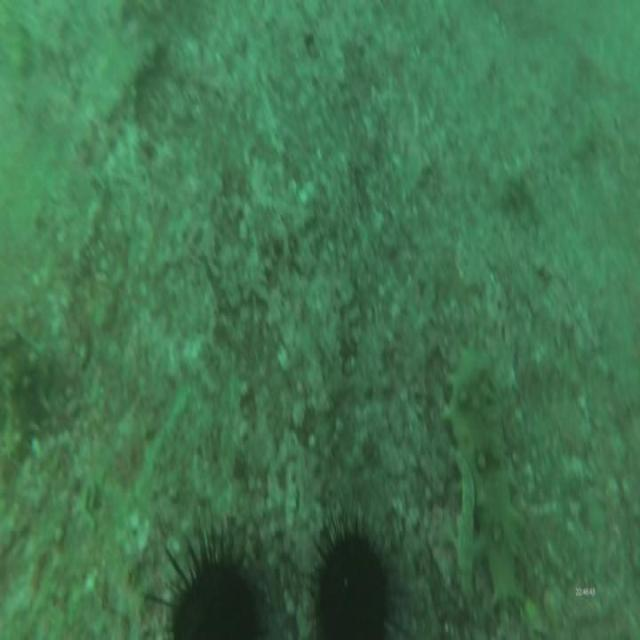echinus: (145, 510, 268, 640), (305, 504, 401, 640)
holothurian: (444, 335, 526, 626), (1, 324, 46, 477)
